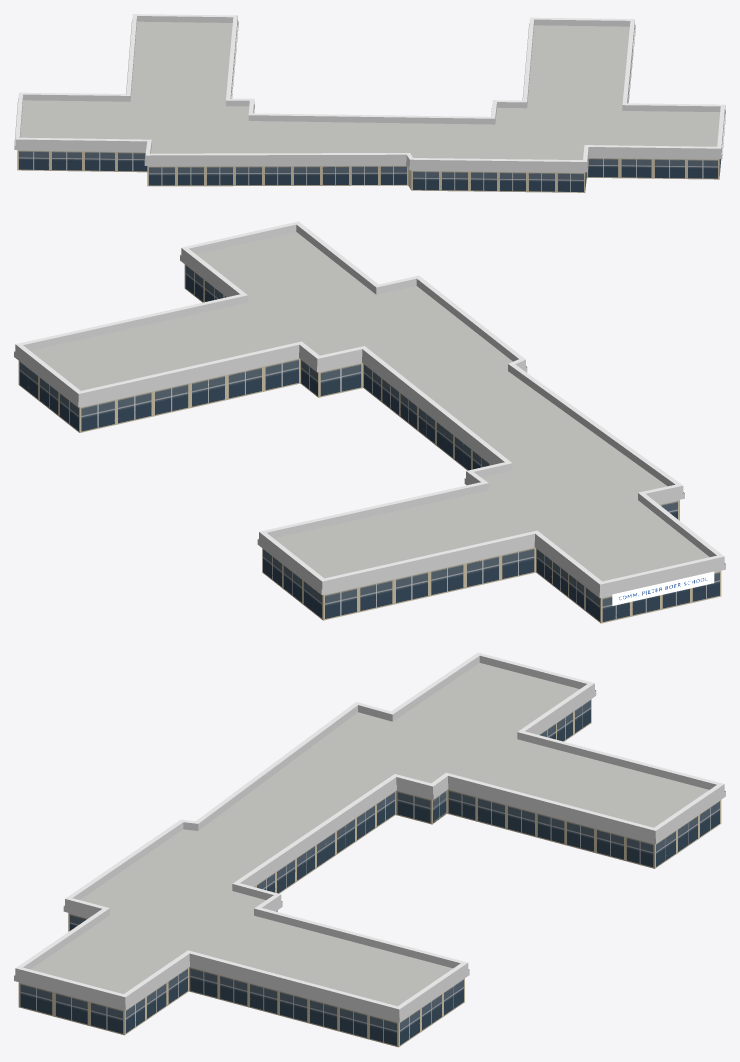
Rendered from pieterboer.glb.
The picture shows the model from 3 angles, top to bottom: view 1: azimuth 30°, elevation 25°; view 2: azimuth 150°, elevation 25°; view 3: azimuth 270°, elevation 25°; orthographic projection. The views are drawn at different scales.
Visible parts, largest first — view 1: pieterboer_lod0; view 2: pieterboer_lod0; view 3: pieterboer_lod0.
Part boxes in pixels (x1,y1,x2,y2): pieterboer_lod0: (14,14,725,192); pieterboer_lod0: (14,221,725,623); pieterboer_lod0: (14,652,725,1047).
Size of what is drawn, in the model's own units: 85.67 by 4.4 by 71.97.
Materials: 4 (2 with a texture image).
